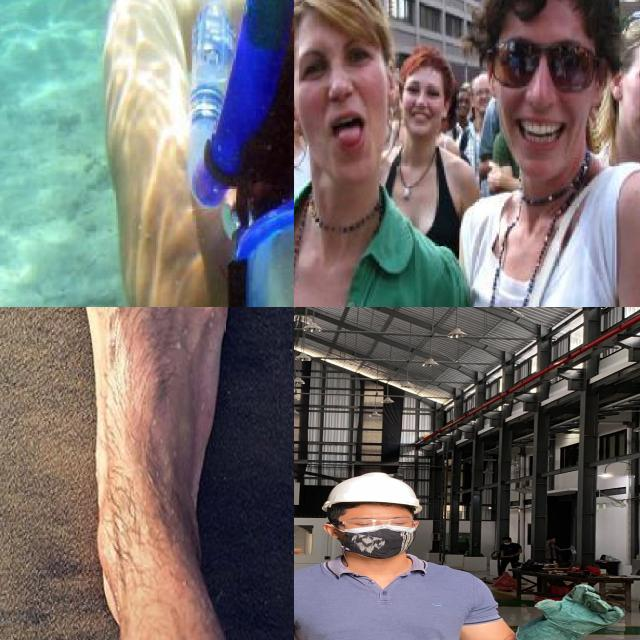Sandals: (69, 307, 230, 640)
face_mask: (330, 513, 422, 557)
face_nomask: (495, 36, 589, 150), (294, 42, 389, 149), (406, 79, 444, 122)
glasses: (483, 29, 604, 101), (321, 518, 419, 534)
hand_glove: (526, 579, 634, 637)
head_helmet: (314, 467, 430, 513)
head_nohelmet: (294, 0, 385, 37), (479, 0, 616, 17), (397, 40, 454, 80), (625, 9, 640, 58)
person: (442, 0, 640, 307), (294, 464, 635, 640), (294, 0, 456, 307), (383, 55, 482, 255)
